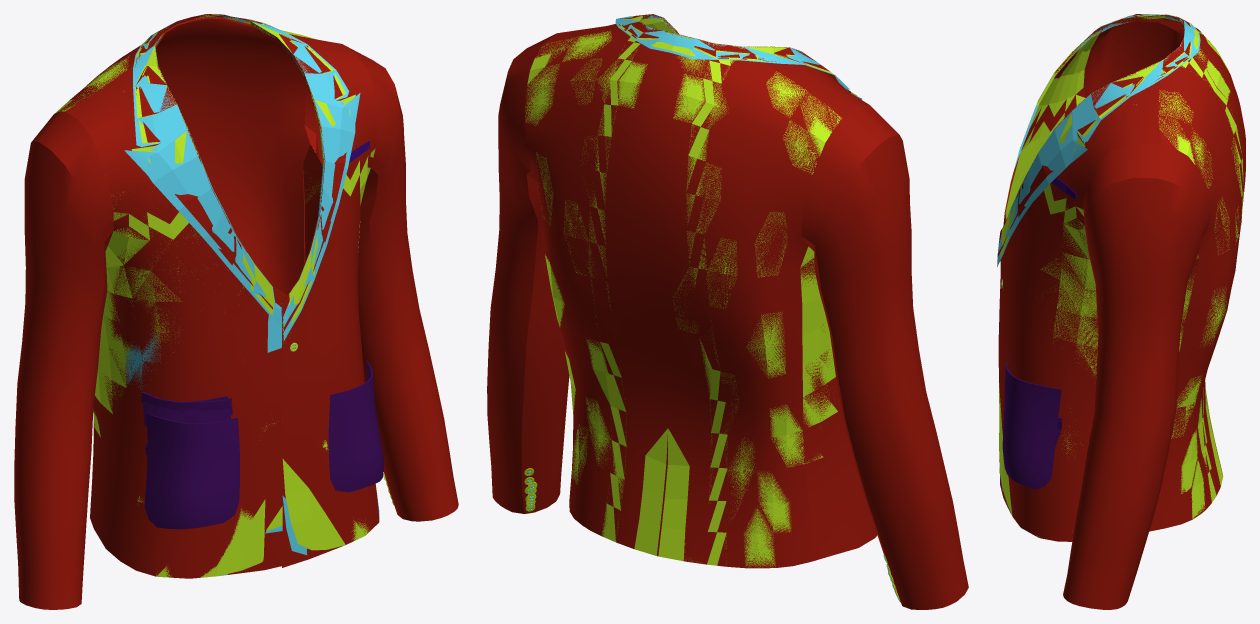
The model's file is Jacket_SB1.fbx.
3 views of the same model, side by side, from view 1: azimuth 30°, elevation 25°; view 2: azimuth 150°, elevation 25°; view 3: azimuth 270°, elevation 25° (orthographic). The views are drawn at different scales.
Visible parts, largest first — view 1: Bottom_Curved; view 2: Bottom_Curved; view 3: Bottom_Curved.
Boxes of the visible parts, bbox=[...] form: Bottom_Curved: bbox=[14, 14, 458, 609]; Bottom_Curved: bbox=[487, 14, 968, 609]; Bottom_Curved: bbox=[997, 14, 1245, 609].
Bounding box in the file's own units: 24.92 × 28.2 × 13.08.
